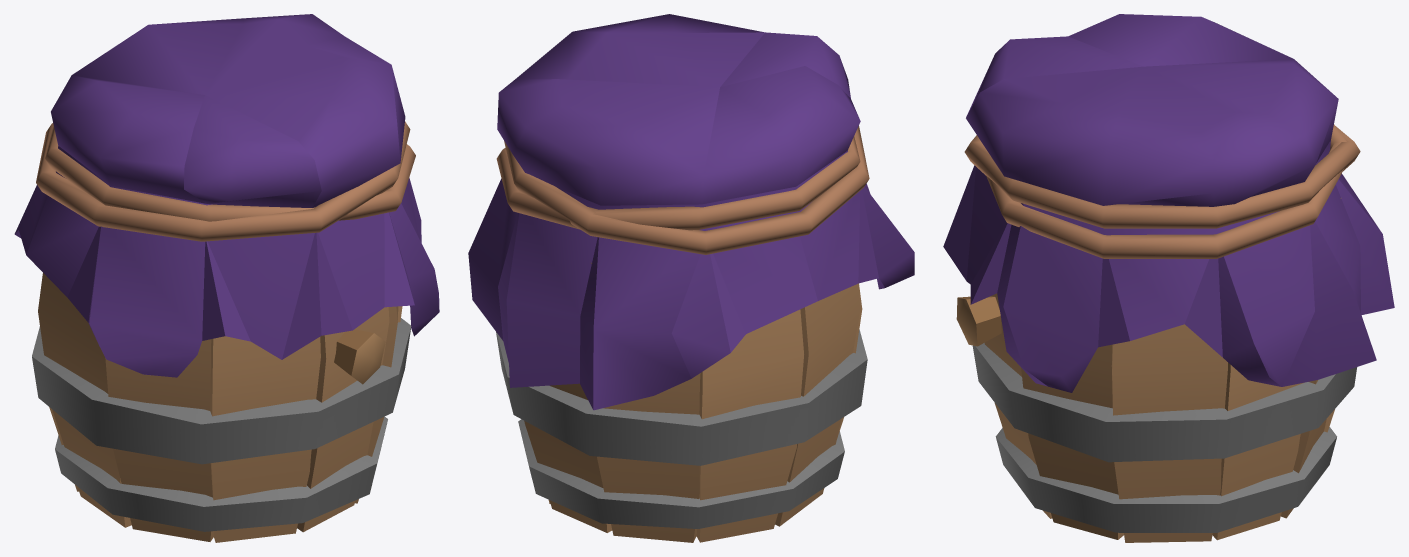
File: Barrel_H.fbx
The picture shows the model from 3 angles, left to right: view 1: azimuth 30°, elevation 25°; view 2: azimuth 150°, elevation 25°; view 3: azimuth 270°, elevation 25°; orthographic projection. The views are drawn at different scales.
Visible parts, largest first — view 1: Barrel_H; view 2: Barrel_H; view 3: Barrel_H.
Part boxes in pixels (box(x1,y1,x2,y2)): Barrel_H: box(14, 14, 439, 542); Barrel_H: box(468, 14, 914, 542); Barrel_H: box(943, 14, 1394, 542).
Bounding box in the file's own units: 86.72 × 94.4 × 92.28.
